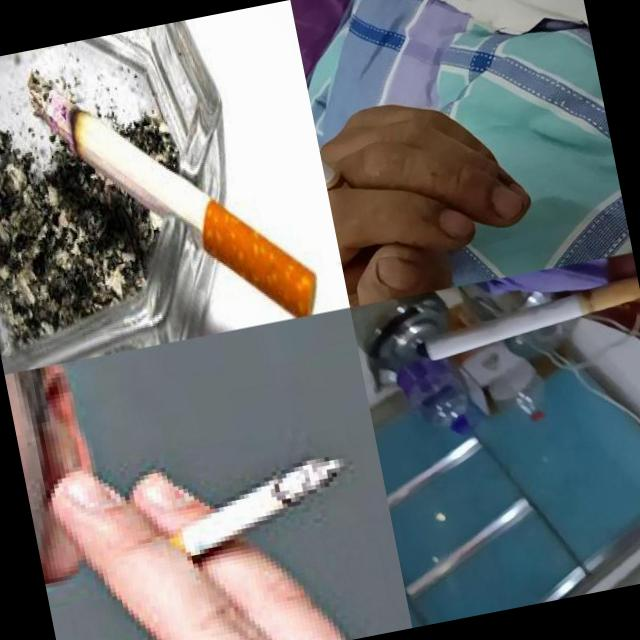smoke: (22, 22, 325, 360), (127, 450, 361, 580), (417, 277, 640, 366), (310, 92, 360, 209)
